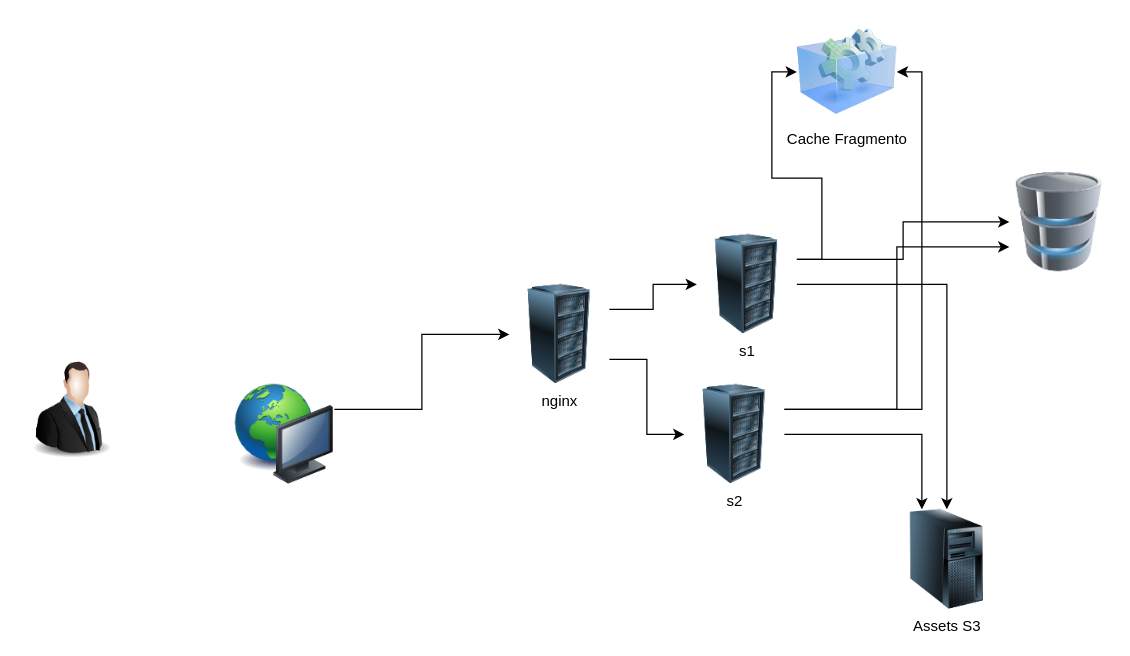
The diagram is 1130 pixels wide and 656 high, and some of its shapes have lost their labels. The centre of each missing label's shape, as x and y in pixels:
"DB" belongs at [1059,221].
"treinamentos.didox.com.br" belongs at [284,434].
